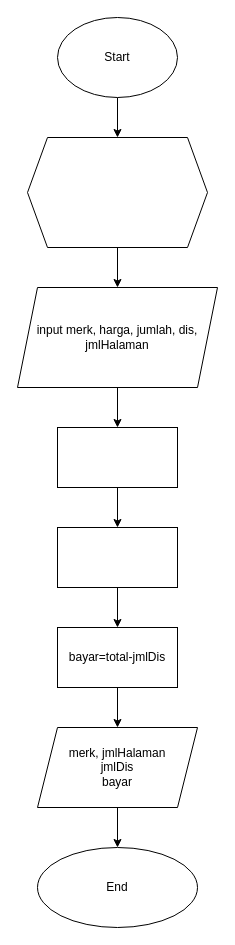
The diagram is 235 pixels wide and 945 high, and some of its shapes have lost their labels. Each missing label, with the centre of its shape:
"jmlDis=total*dis" goes at pixel 117 557.
"String merk int harga, jumlah, dis, jmlHalaman double total, bayar, jmlDis" goes at pixel 117 192.
"total=harga*jumlah" goes at pixel 117 457.
